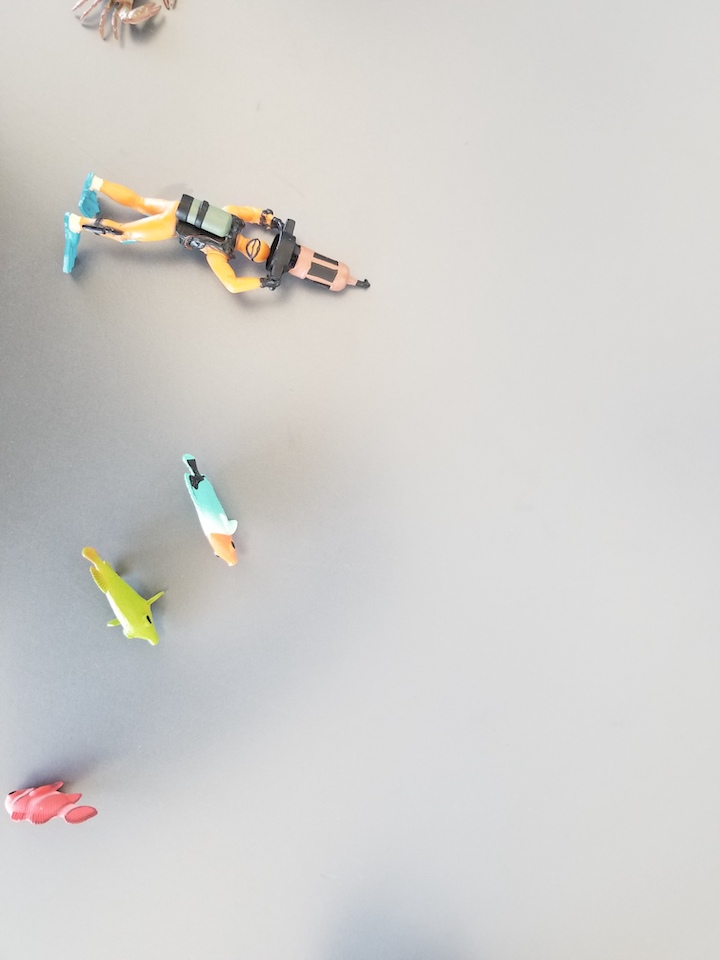crab: (73, 1, 184, 46)
diver: (57, 170, 378, 306)
fish: (81, 541, 171, 651), (178, 450, 247, 572), (3, 779, 103, 829)
